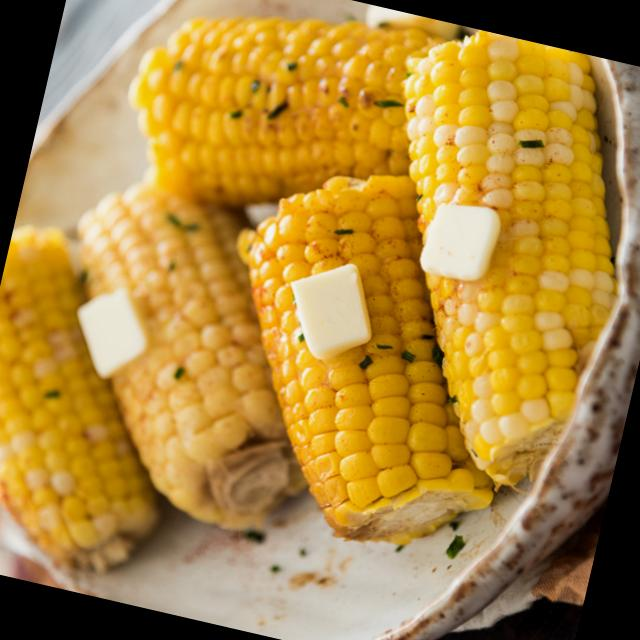corn: (182, 152, 568, 568), (323, 15, 640, 493), (22, 156, 360, 552), (104, 0, 438, 259), (0, 210, 218, 578)
